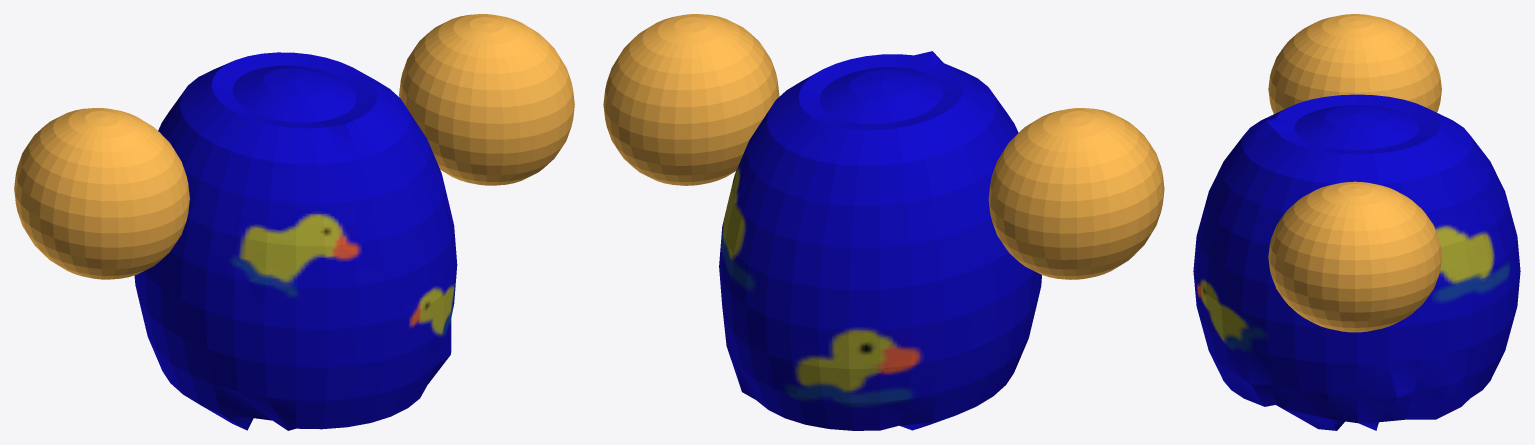
Rendered from item-swimsuit.glb.
The picture shows the model from 3 angles, left to right: view 1: azimuth 30°, elevation 25°; view 2: azimuth 150°, elevation 25°; view 3: azimuth 270°, elevation 25°; orthographic projection. The views are drawn at different scales.
Bounding box in the file's own units: 0.0845 × 0.05 × 0.0504.
Materials: 2 (1 with a texture image).
